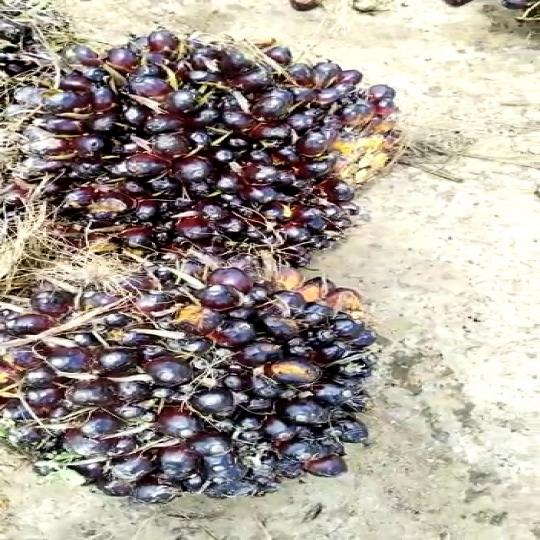mentah: (1, 30, 412, 280), (1, 264, 387, 496)
